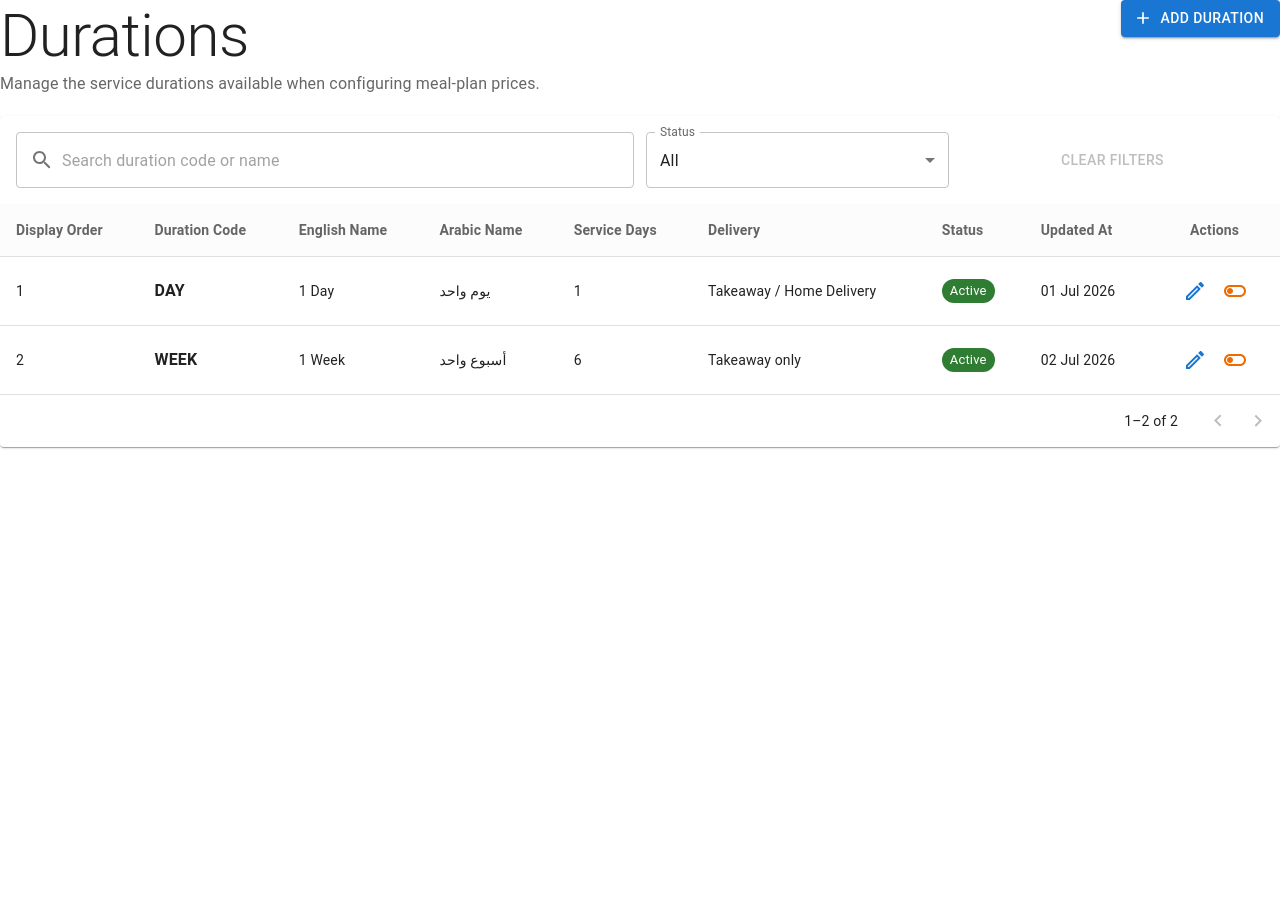
Test case: PricePackagesTab › disables service days when an existing package is referenced
The image size is (1280, 900).
Expected: the text "WEEK" is shown, [155,350,197,369]
Click the button named "Edit 1 Week".
click(1195, 360)  # box [1175,340,1215,380]
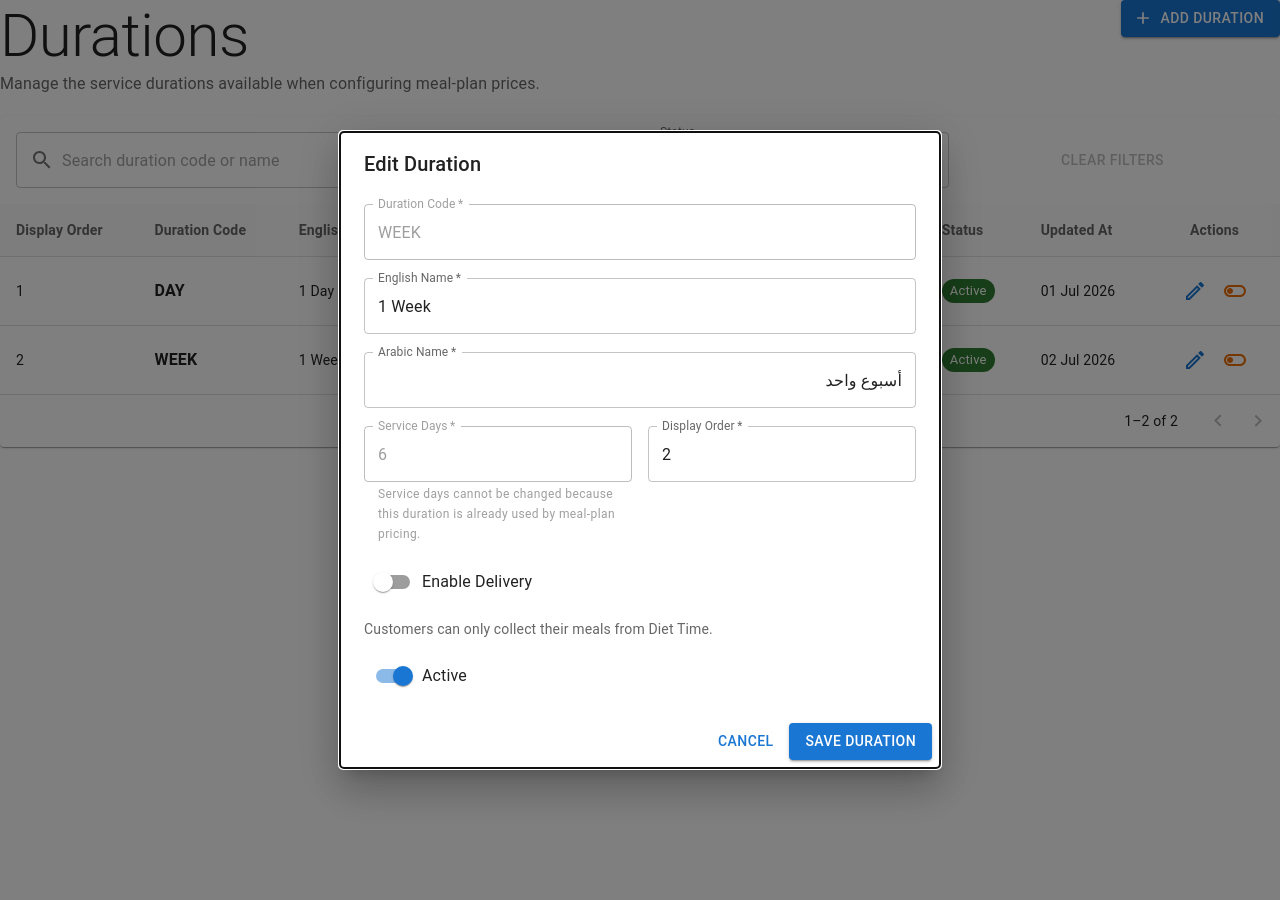
Expected: the number field labelled "Service Days *" is disabled, [364,426,632,482]
Expected: the text "cannot be changed because this duration is already used" is shown, [378,487,615,541]
